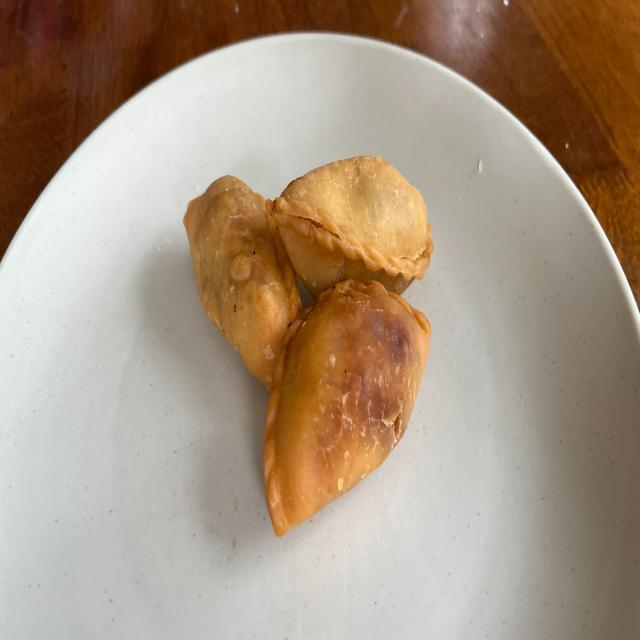karipap: (264, 280, 431, 536), (184, 176, 301, 389), (272, 156, 432, 298)
